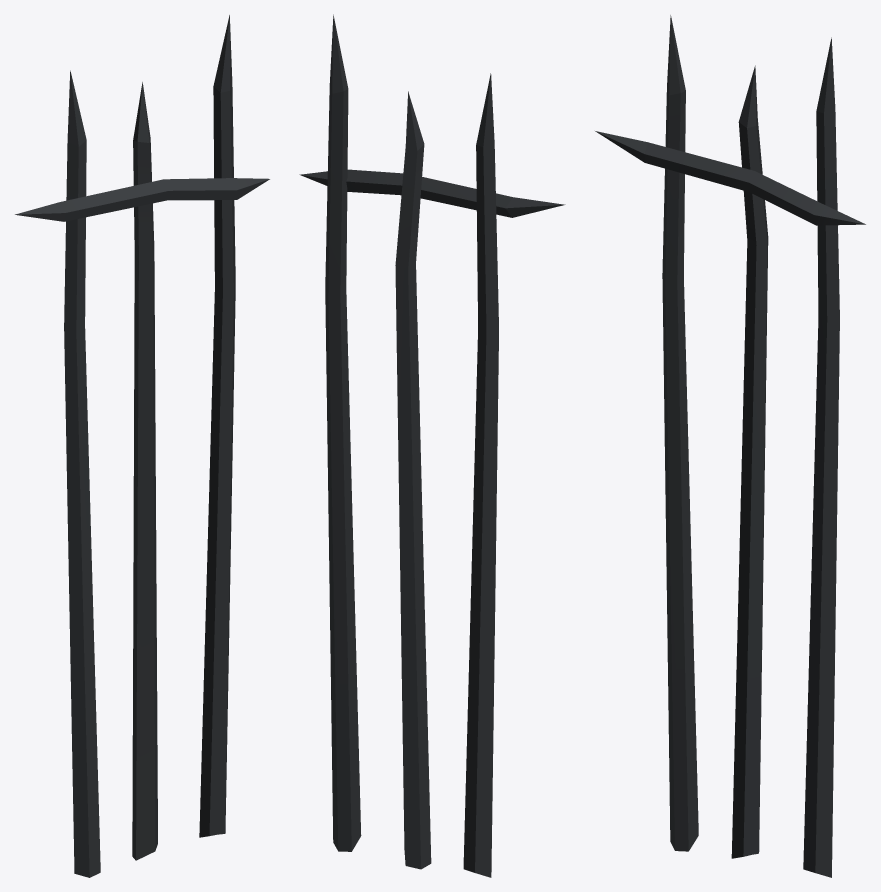
File: pit_fence.gltf
The picture shows the model from 3 angles, left to right: view 1: azimuth 30°, elevation 25°; view 2: azimuth 150°, elevation 25°; view 3: azimuth 330°, elevation 25°; orthographic projection. The views are drawn at different scales.
Parts seen in each view (by area): view 1: pit_fence; view 2: pit_fence; view 3: pit_fence.
Part boxes in pixels (box(x1,y1,x2,y2)): pit_fence: box(15, 15, 269, 877); pit_fence: box(299, 14, 565, 877); pit_fence: box(595, 15, 865, 877).
Bounding box in the file's own units: 0.7931 × 2.4 × 0.1312.
Materials: 1 (1 with a texture image).
